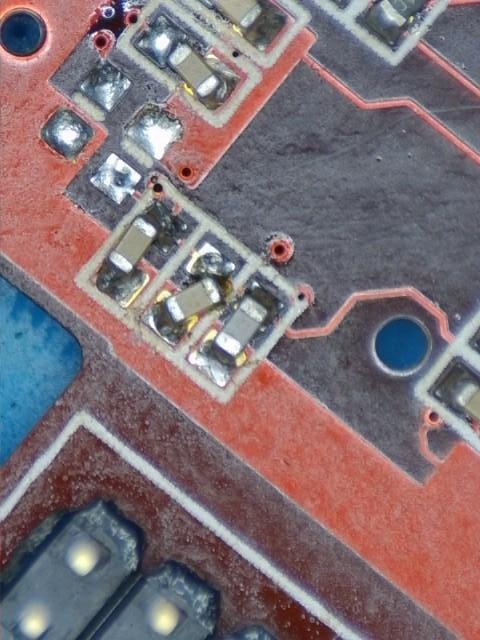pcb_defect: (89, 201, 188, 308), (141, 243, 235, 348), (137, 14, 239, 109)
